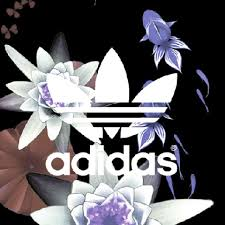adidas: (46, 50, 178, 177)
